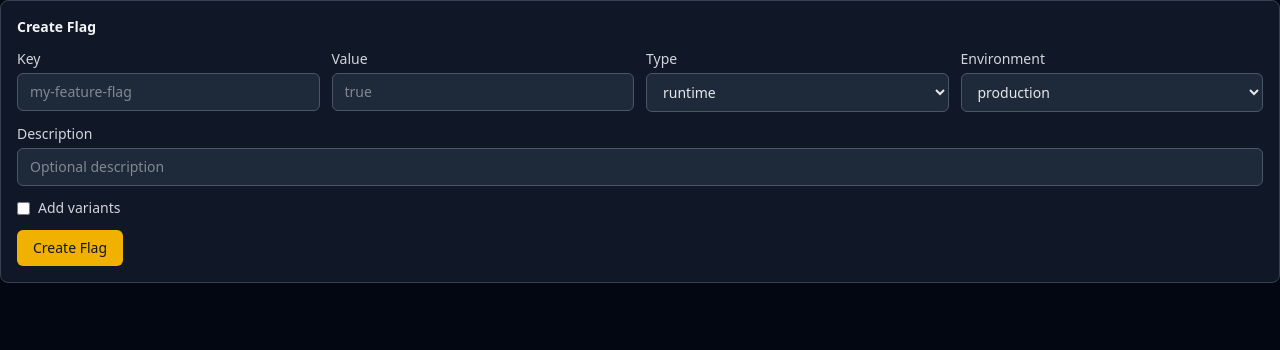
Test: CreateFlagForm › shows build-time warning when type is build-time
Select "build-time" in the dropdown labelled "Type" at [797, 92], box x1=646 y1=73 x2=948 y2=112
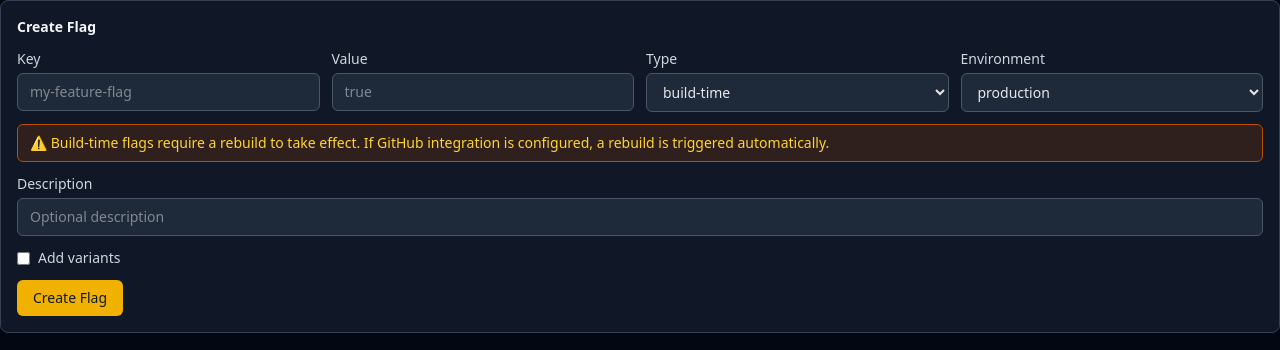
Expected: the text "Build-time flags require a rebuild" is shown, x1=30 y1=133 x2=829 y2=152
